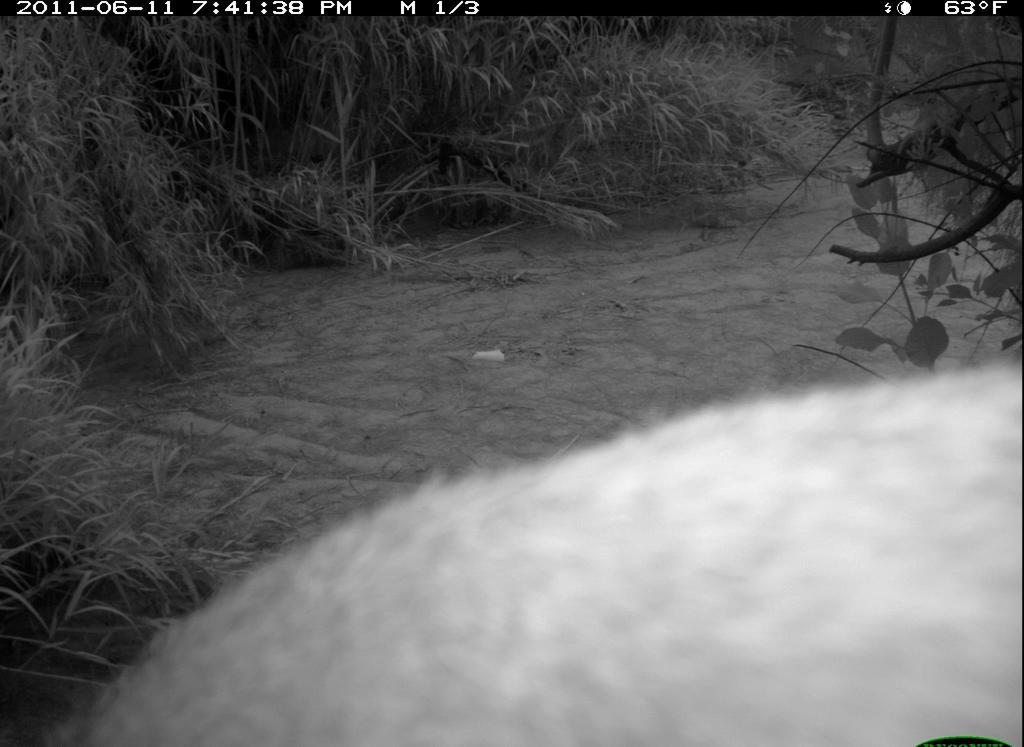bobcat: (59, 342, 1023, 747)
